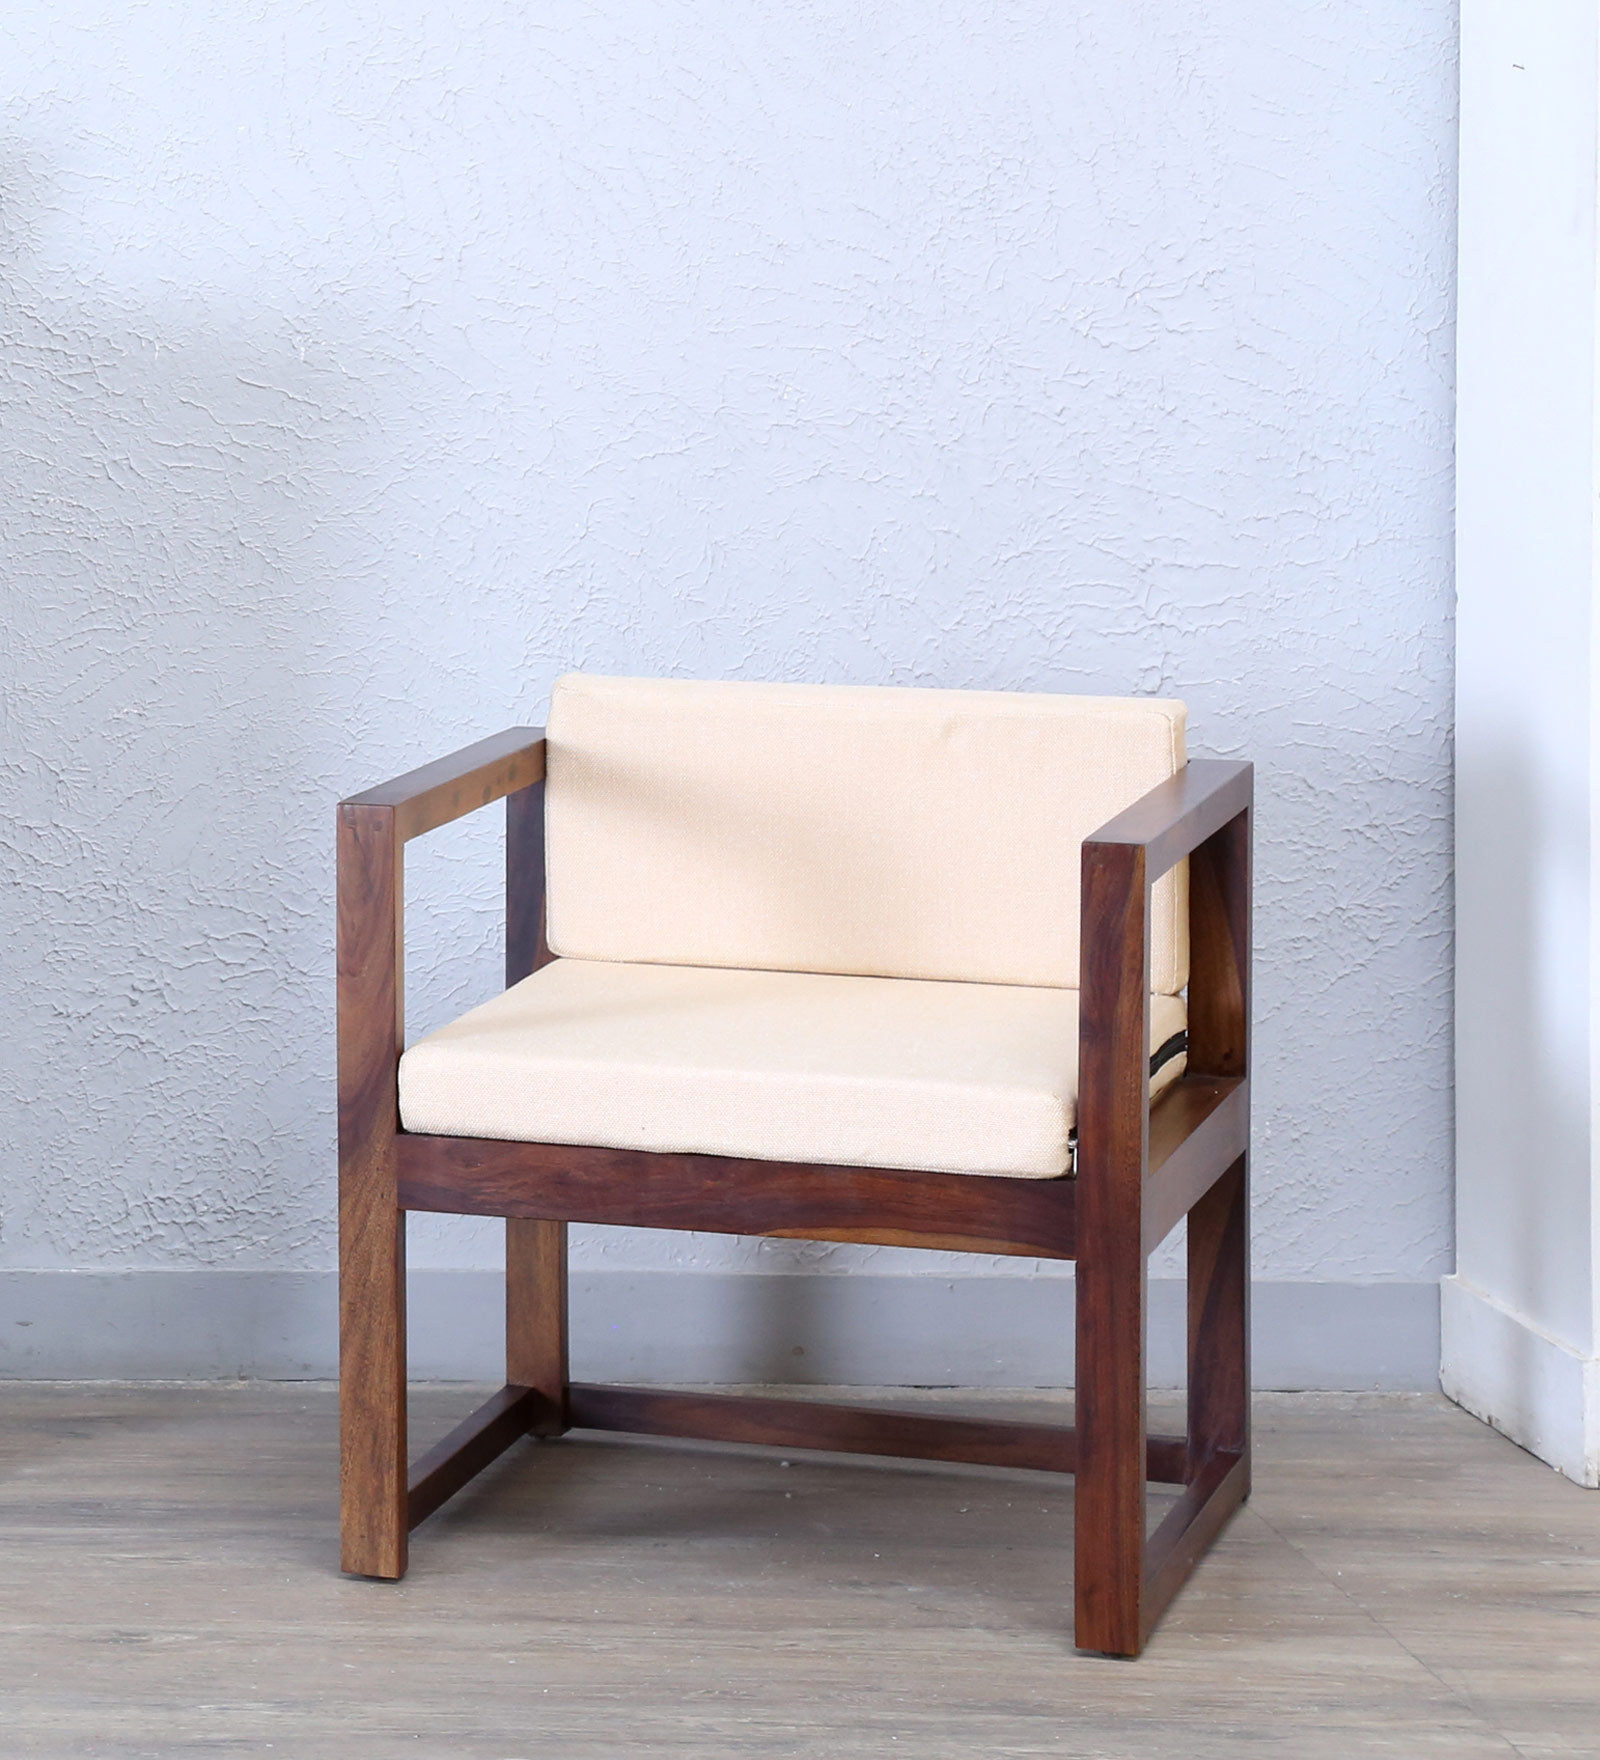Avian Arm Chair in Provincial Teak Finish by Woodsworth: (300, 639, 1300, 1674)
